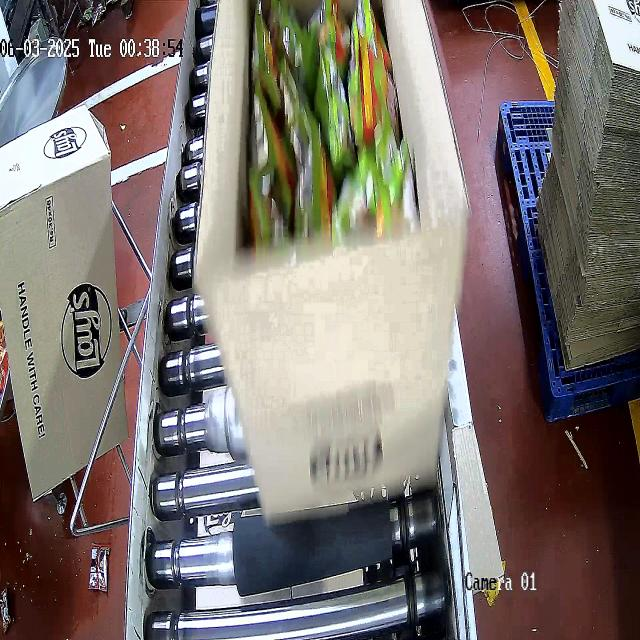YOGURT_HERB: (237, 5, 419, 252)
